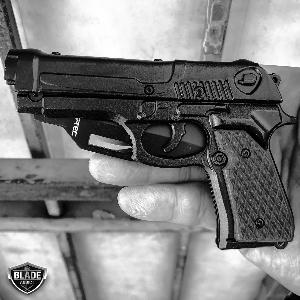handgun: (7, 40, 299, 254)
